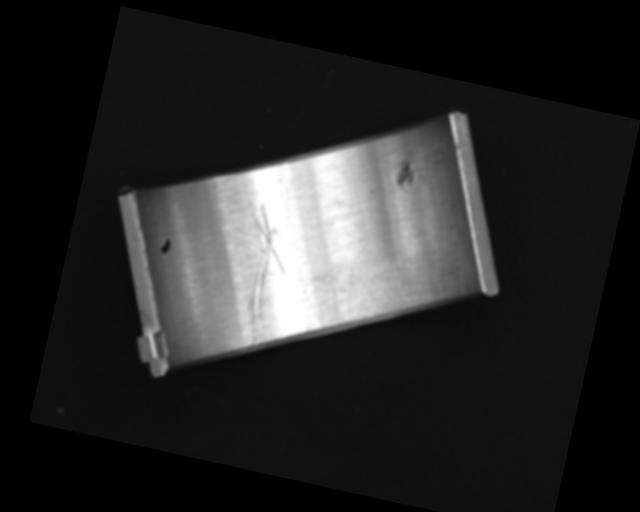blot: (158, 235, 173, 256)
bruise: (393, 157, 418, 190)
nick: (220, 201, 301, 351)
scratch: (323, 243, 451, 340)
